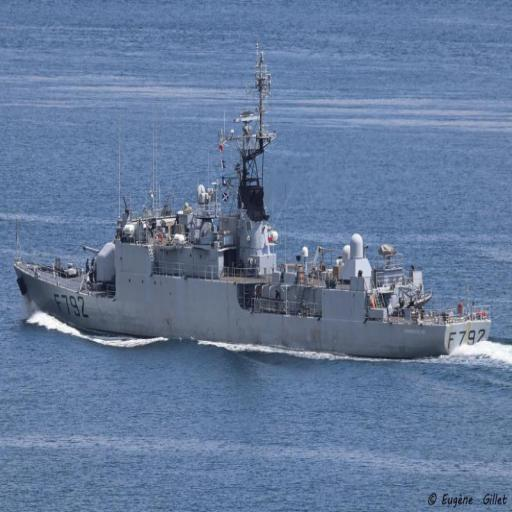Fragata: (13, 57, 495, 367)
